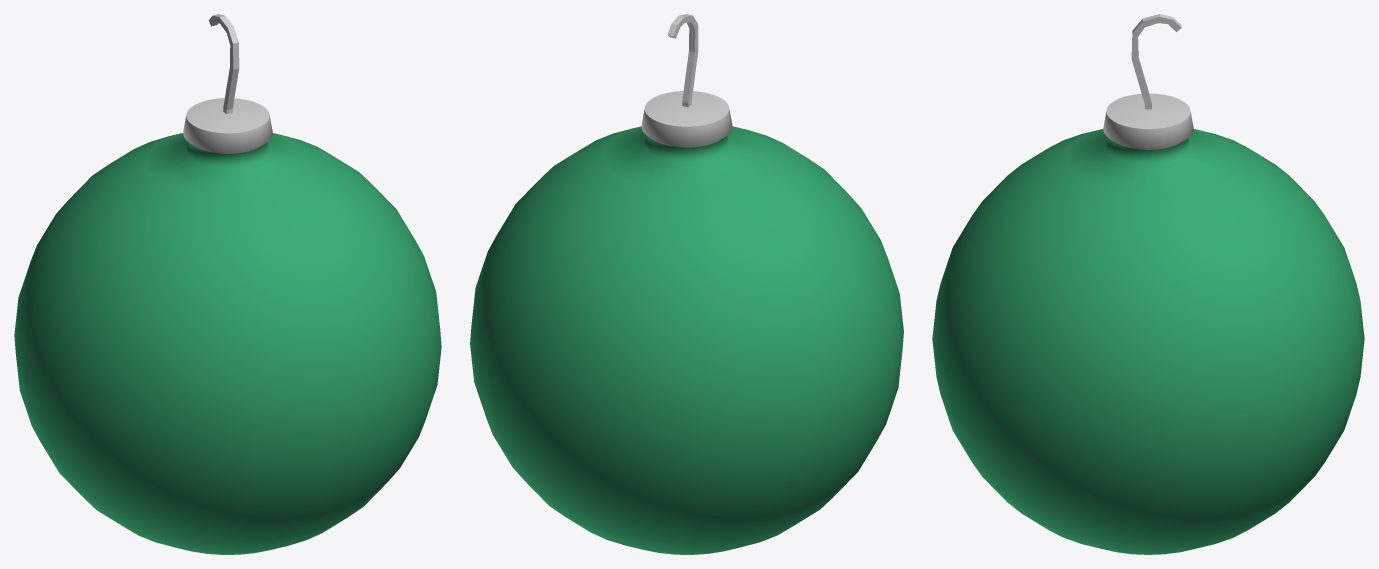
File: ornament-green.fbx
3 renders of one model, left to right at view 1: azimuth 30°, elevation 25°; view 2: azimuth 150°, elevation 25°; view 3: azimuth 270°, elevation 25°, orthographic.
Visible parts, largest first — view 1: Sphere; view 2: Sphere; view 3: Sphere.
Part boxes in pixels (x1,y1,x2,y2): Sphere: [14, 14, 441, 554]; Sphere: [470, 14, 903, 554]; Sphere: [932, 14, 1364, 554].
Size of the model in its own units: 21.15 by 28.04 by 21.15.
